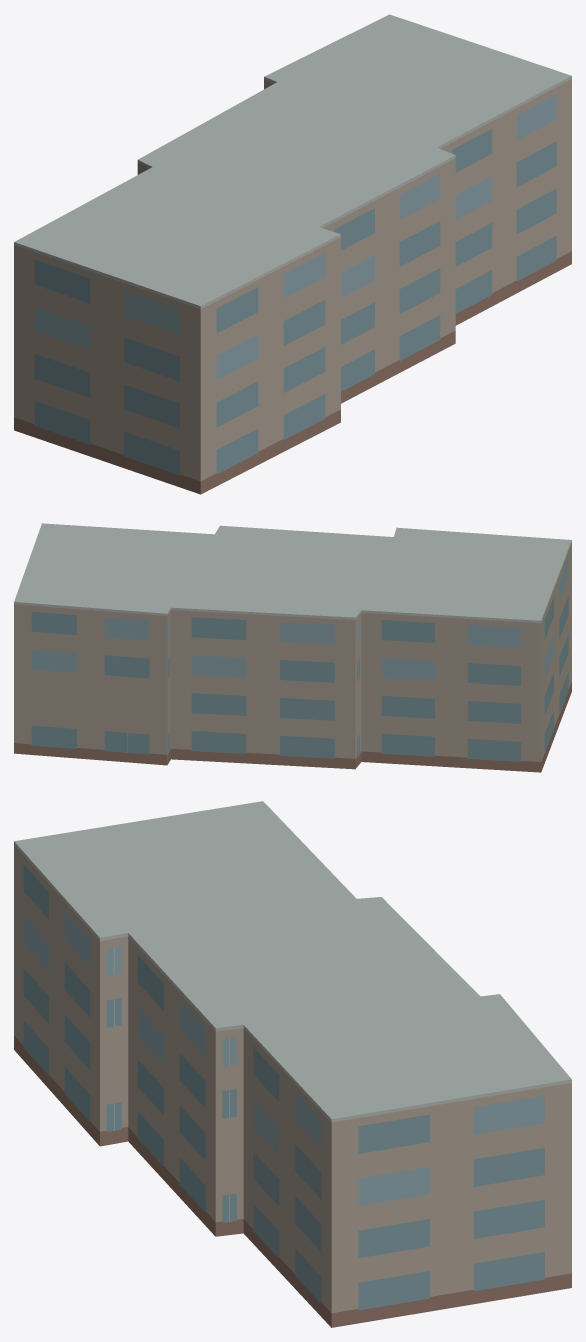
File: survey-upis-32863134.glb
The picture shows the model from 3 angles, top to bottom: view 1: azimuth 30°, elevation 25°; view 2: azimuth 150°, elevation 25°; view 3: azimuth 270°, elevation 25°; orthographic projection. The views are drawn at different scales.
Parts seen in each view (by area): view 1: survey-upis-32863134.tmp; view 2: survey-upis-32863134.tmp; view 3: survey-upis-32863134.tmp.
Boxes of the visible parts, x1,y1,x2,y2 form: survey-upis-32863134.tmp: (14,14,571,494); survey-upis-32863134.tmp: (14,523,571,772); survey-upis-32863134.tmp: (14,801,571,1327).
Size of the model in its own units: 49.45 by 15.11 by 36.64.
